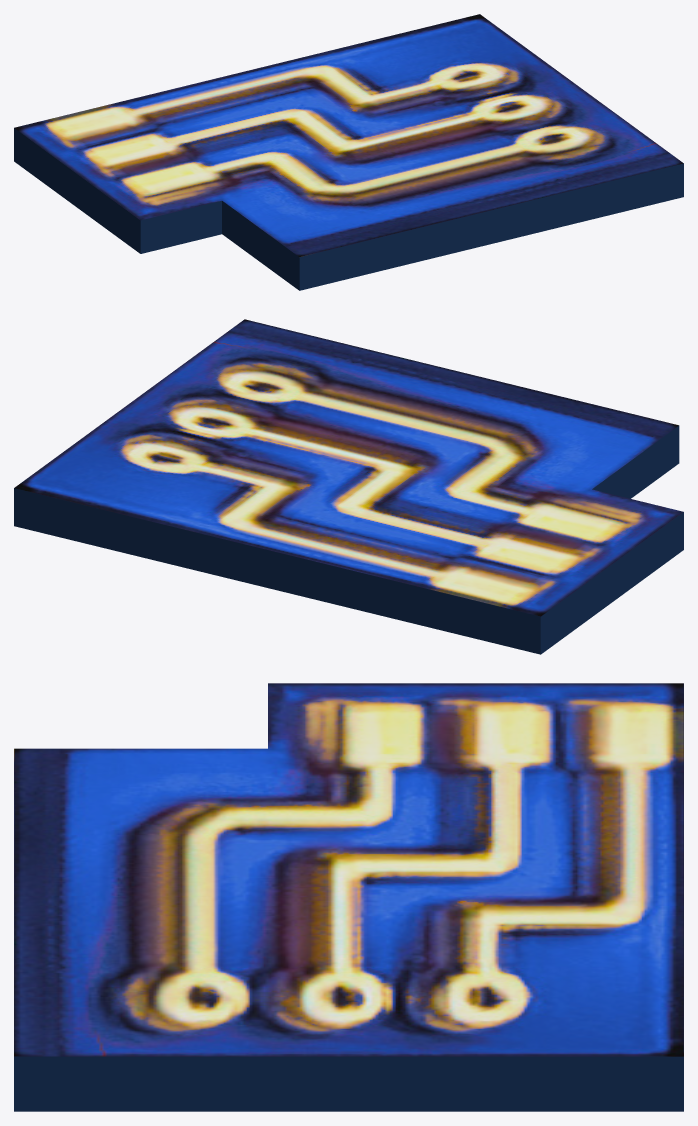
File: static.fbx
The picture shows the model from 3 angles, top to bottom: view 1: azimuth 30°, elevation 25°; view 2: azimuth 150°, elevation 25°; view 3: azimuth 270°, elevation 25°; orthographic projection. The views are drawn at different scales.
Visible parts, largest first — view 1: Boole; view 2: Boole; view 3: Boole.
Boxes of the visible parts, x1,y1,x2,y2 form: Boole: (14, 14, 683, 290); Boole: (14, 319, 683, 654); Boole: (14, 683, 683, 1111).
Size of the model in its own units: 96.01 by 6.62 by 72.81.
2 materials, 2 textured.
